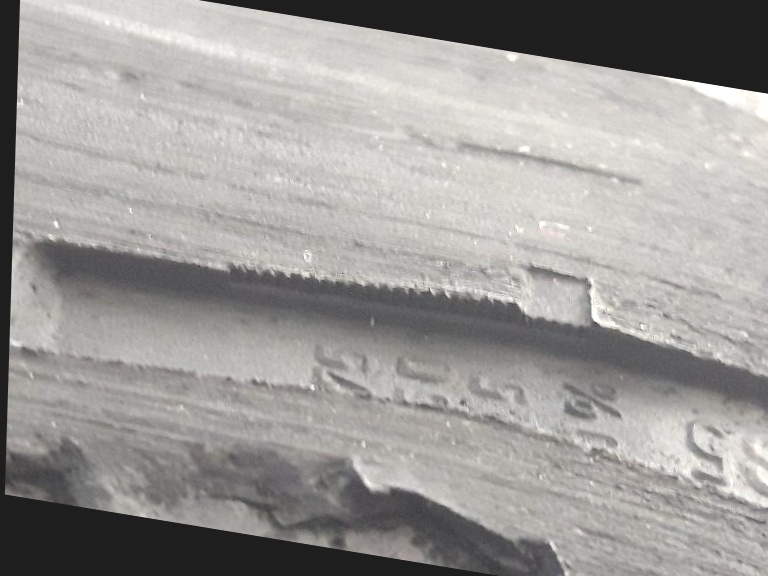temoin:0: (490, 242, 621, 372)
